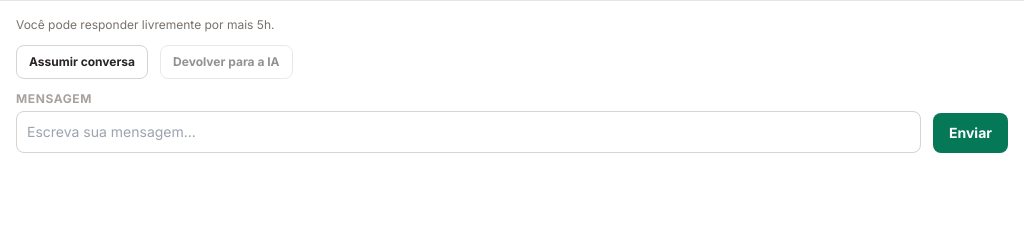
Test: CampoEnvio › mostra o erro devolvido pela API quando o envio é recusado
Type "Oi" into the field labelled "Mensagem". click: (468, 132)
box: [16, 111, 921, 153]
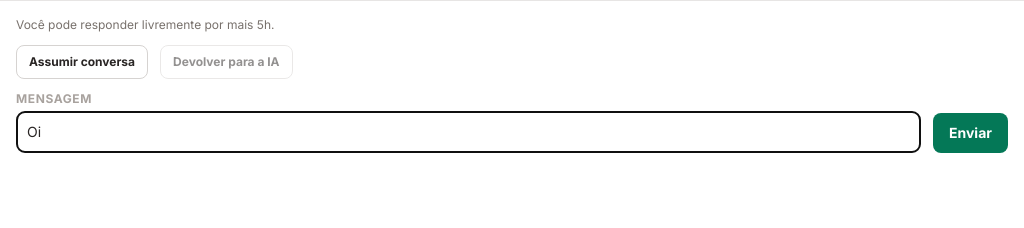
Click the button "Enviar". click: (970, 133)
box: [933, 113, 1008, 153]
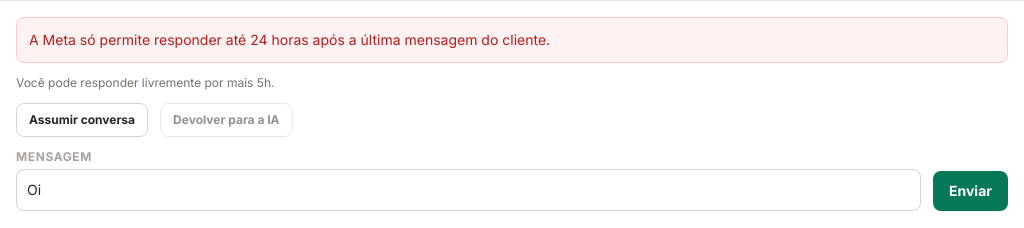
Now the message reads "A Meta só permite responder até 24 horas após a última mensagem do cliente.", box [29, 31, 550, 48]
